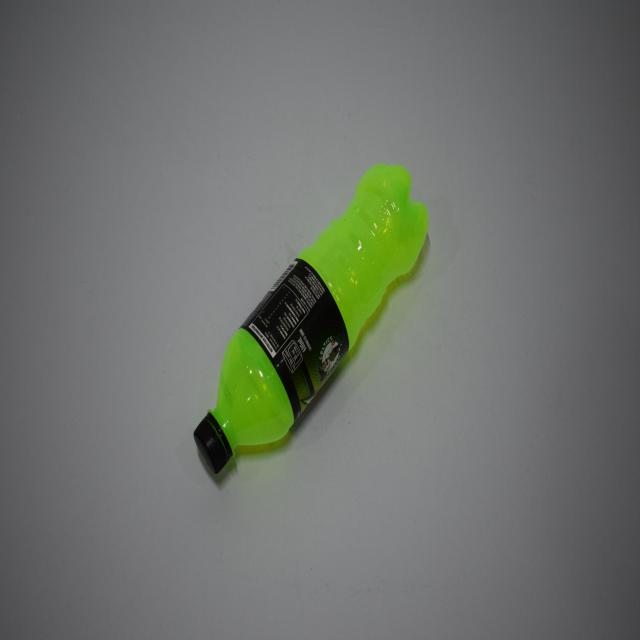bottle: (192, 162, 430, 488)
